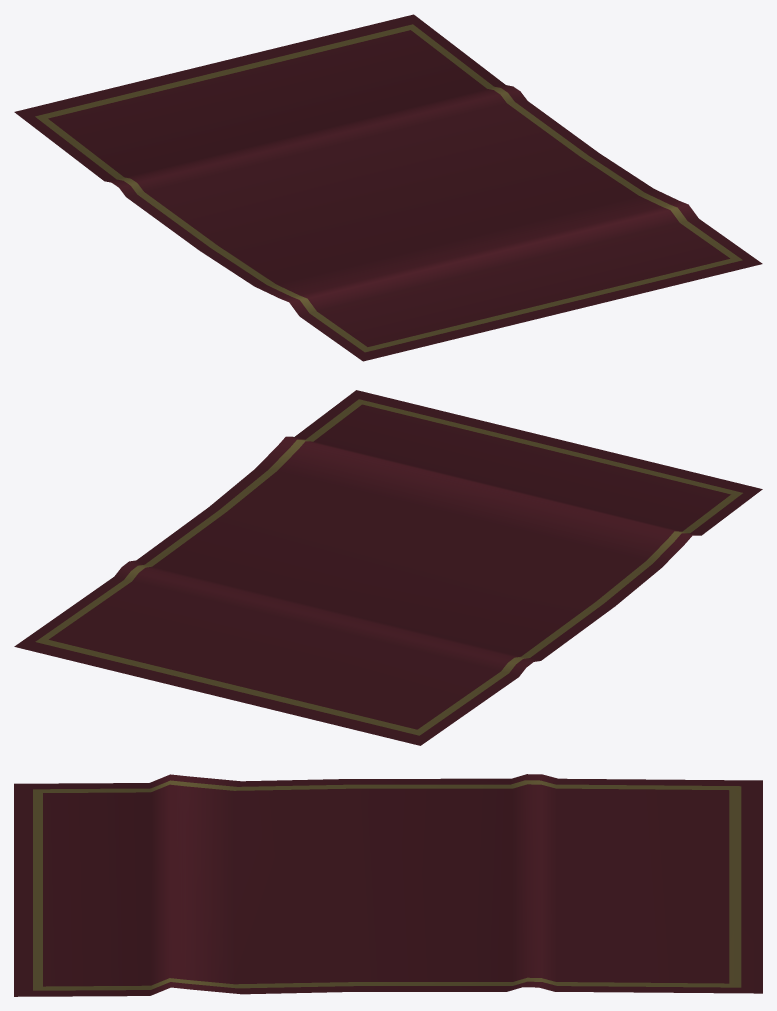
The model's file is pq_tapis_rect.glb.
3 views of the same model, one above another, from view 1: azimuth 30°, elevation 25°; view 2: azimuth 150°, elevation 25°; view 3: azimuth 270°, elevation 25° (orthographic). The views are drawn at different scales.
Parts seen in each view (by area): view 1: Carpet_1; view 2: Carpet_1; view 3: Carpet_1.
Boxes of the visible parts, x1,y1,x2,y2 form: Carpet_1: (14,14,762,361); Carpet_1: (14,390,762,745); Carpet_1: (14,774,762,996).
Bounding box in the file's own units: 1.65 × 0.0284 × 2.4.
